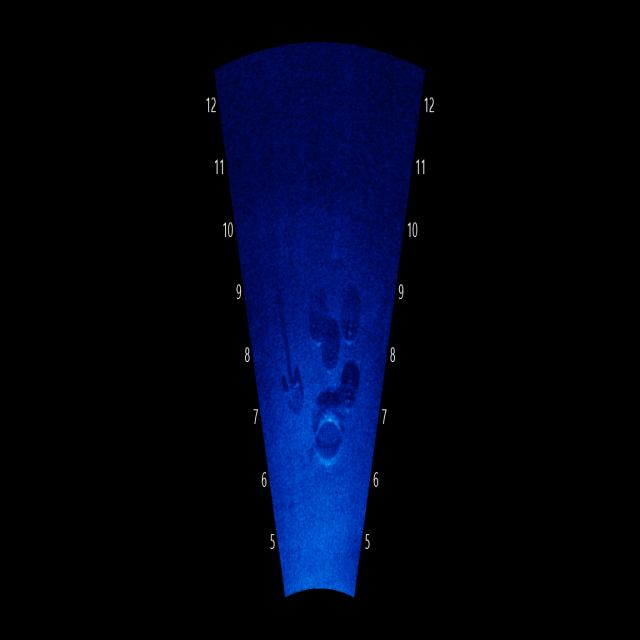circle: (303, 278, 338, 366), (308, 398, 349, 468), (334, 284, 371, 354), (318, 317, 346, 389), (336, 356, 370, 410)
